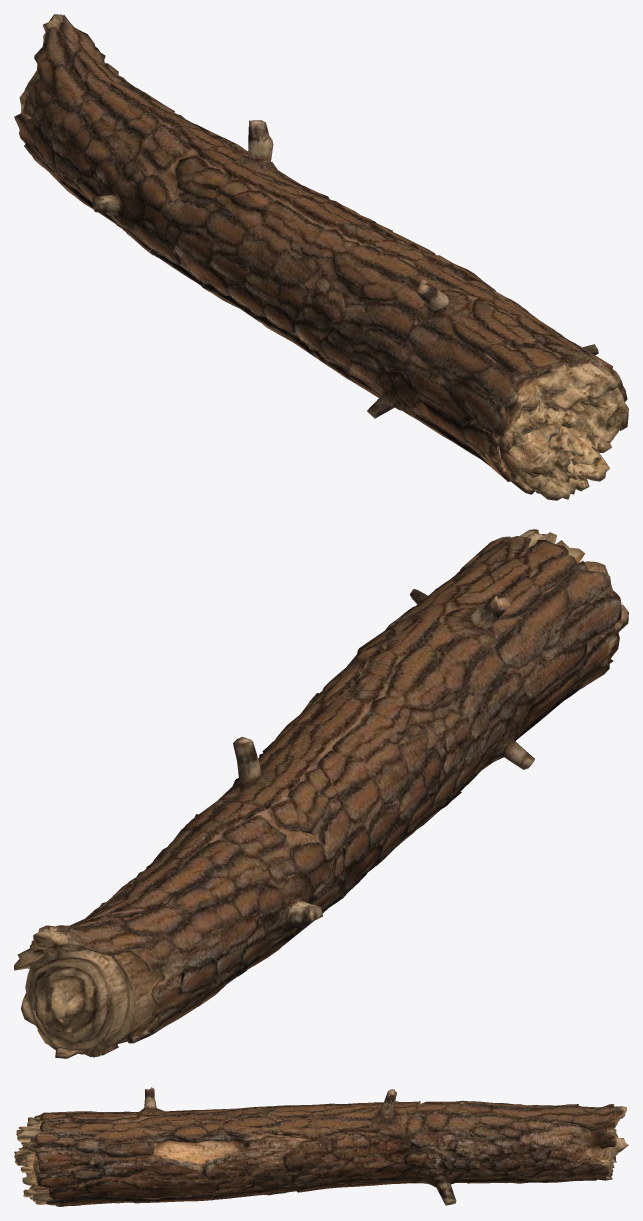
The model's file is fallenlog_timber.glb.
3 views of the same model, one above another, from view 1: azimuth 30°, elevation 25°; view 2: azimuth 150°, elevation 25°; view 3: azimuth 270°, elevation 25° (orthographic). The views are drawn at different scales.
Parts seen in each view (by area): view 1: fallenlog_timber_00; view 2: fallenlog_timber_00; view 3: fallenlog_timber_00.
Boxes of the visible parts, box(x1,y1,x2,y2) form: fallenlog_timber_00: box(14, 14, 628, 500); fallenlog_timber_00: box(14, 529, 628, 1058); fallenlog_timber_00: box(14, 1087, 628, 1206).
Bounding box in the file's own units: 0.4634 × 0.361 × 1.9.
Materials: 1 (1 with a texture image).
